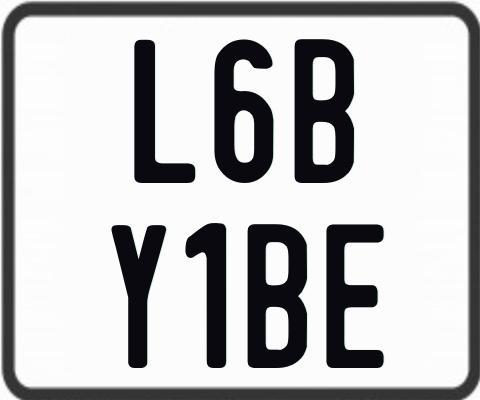1: (184, 222, 225, 368)
6: (212, 39, 272, 186)
B: (295, 37, 360, 184), (247, 221, 306, 369)
E: (325, 224, 386, 372)
L: (134, 39, 200, 183)
Y: (110, 225, 166, 368)
